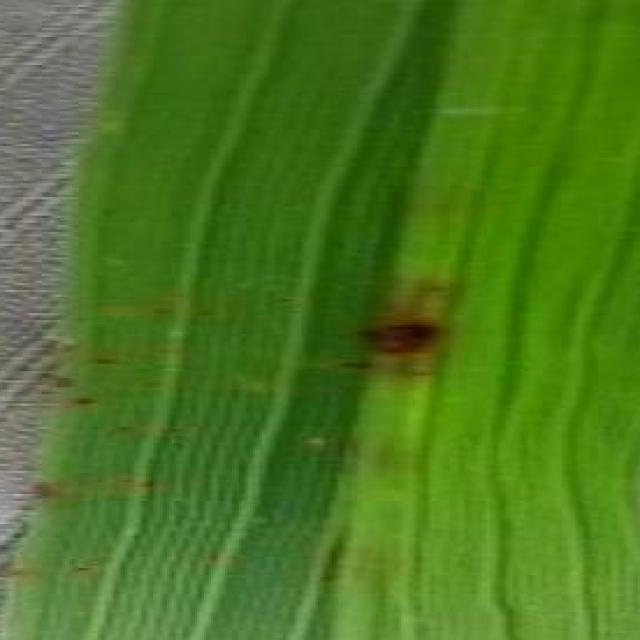Brown_Spot: (346, 311, 448, 373), (21, 473, 67, 517), (334, 354, 376, 382), (141, 299, 181, 327), (67, 392, 102, 418), (88, 352, 120, 376), (4, 561, 30, 587), (67, 559, 95, 582), (136, 376, 164, 398), (130, 478, 160, 498), (111, 424, 137, 440)
